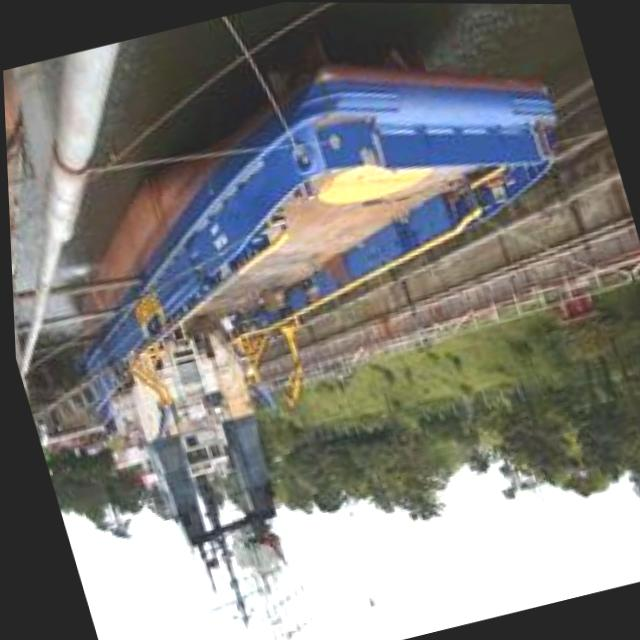ship2: (78, 37, 557, 620)
